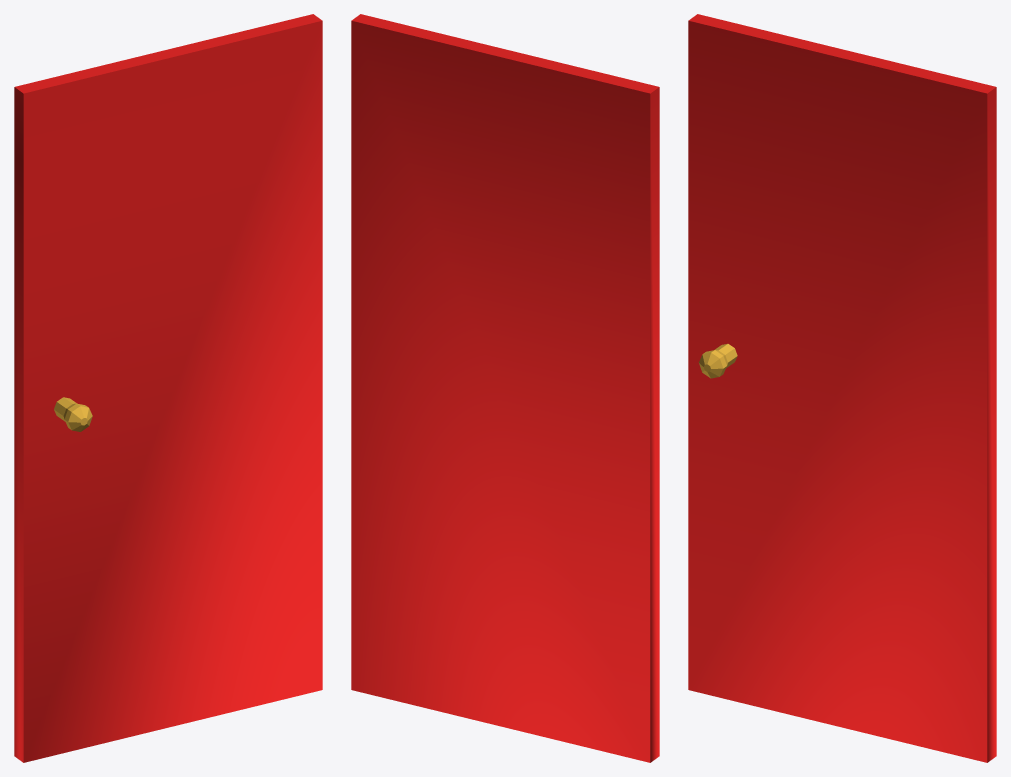
Rendered from BP10_Door.fbx.
3 renders of one model, left to right at view 1: azimuth 30°, elevation 25°; view 2: azimuth 150°, elevation 25°; view 3: azimuth 330°, elevation 25°, orthographic.
Parts seen in each view (by area): view 1: BP10_Door; view 2: BP10_Door; view 3: BP10_Door.
Part boxes in pixels (left/top/right/bottom): BP10_Door: left=14, top=14, right=322, bottom=762; BP10_Door: left=351, top=14, right=659, bottom=762; BP10_Door: left=688, top=14, right=996, bottom=762.
Bounding box in the file's own units: 94.54 × 202 × 16.44.
